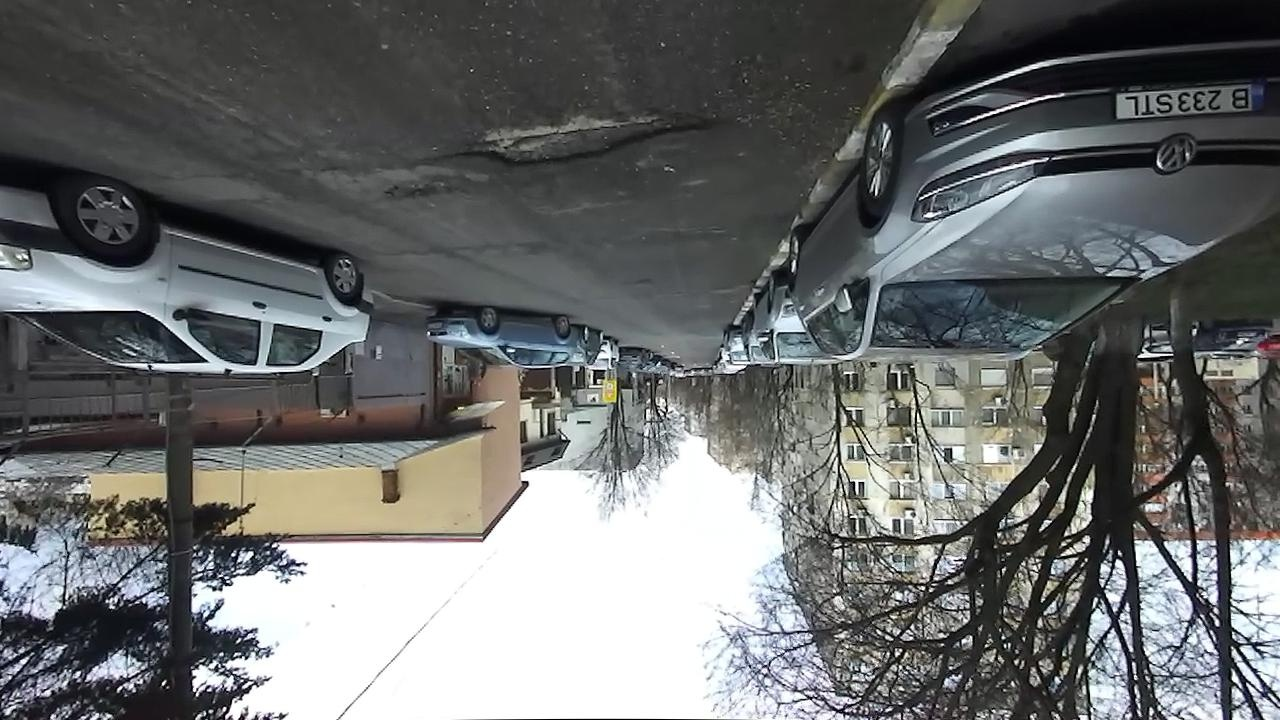pothole: (414, 104, 733, 174), (375, 177, 475, 205)
